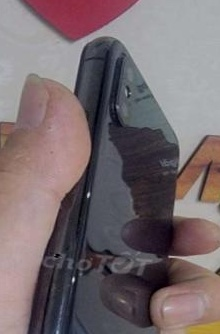scratch: (48, 268, 99, 294), (79, 180, 96, 205)
